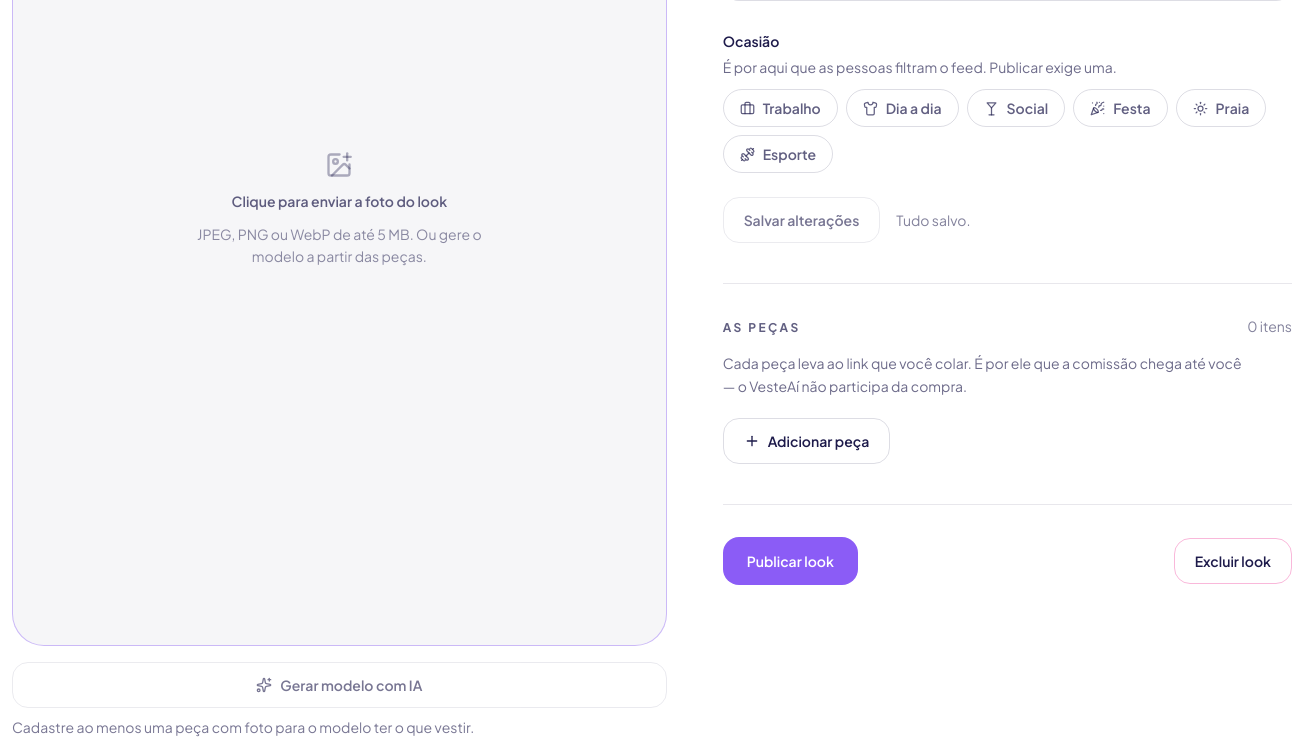
editor de look › explica a recusa da RN04 em vez de mostrar o código
This screenshot has width=1304, height=739.
(page scrolled)
Step 1. Click the button "Publicar look" → point(790, 560), box [723, 536, 858, 584]
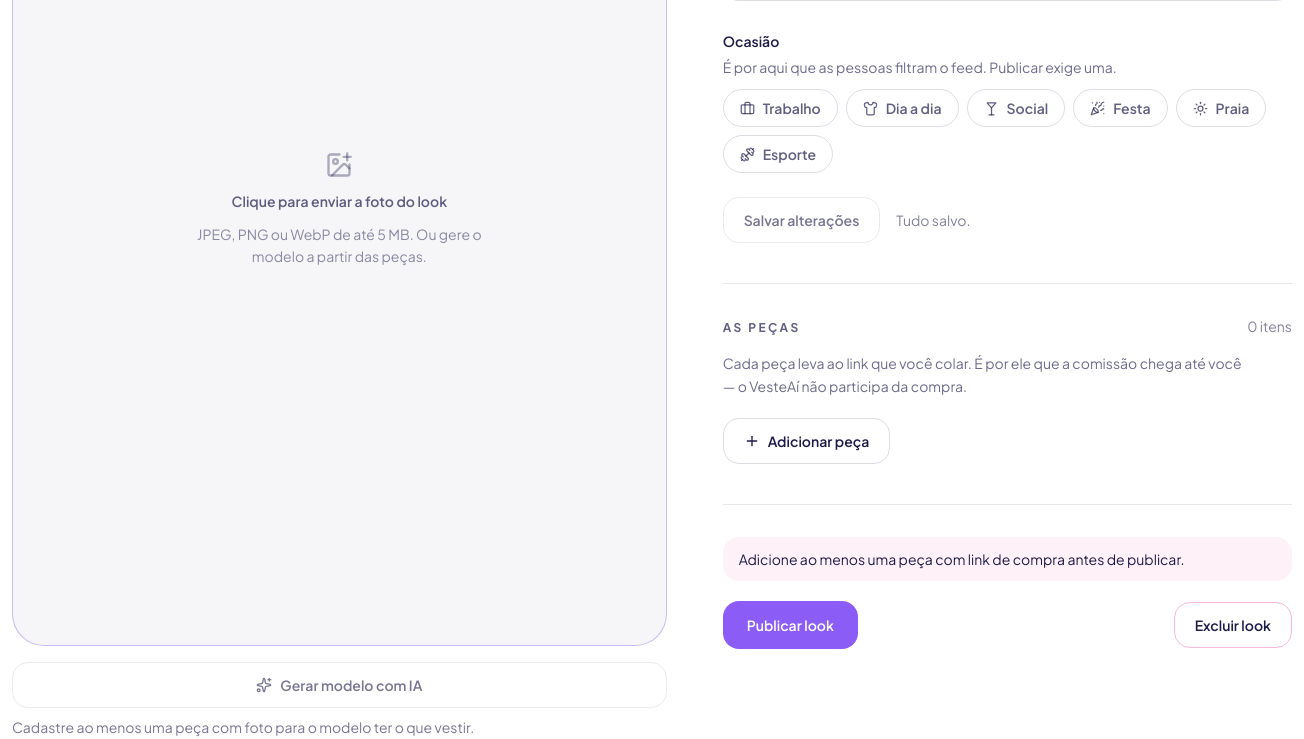
Expected: the message shows "ao menos uma peça", [739, 550, 1185, 568]
